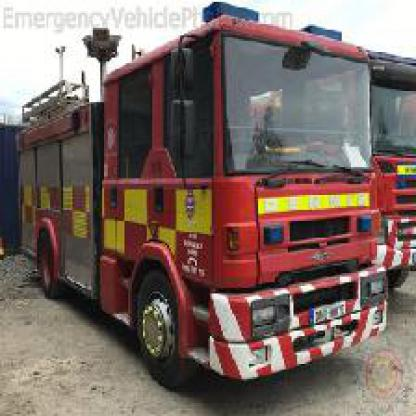emergency: (19, 30, 396, 392)
